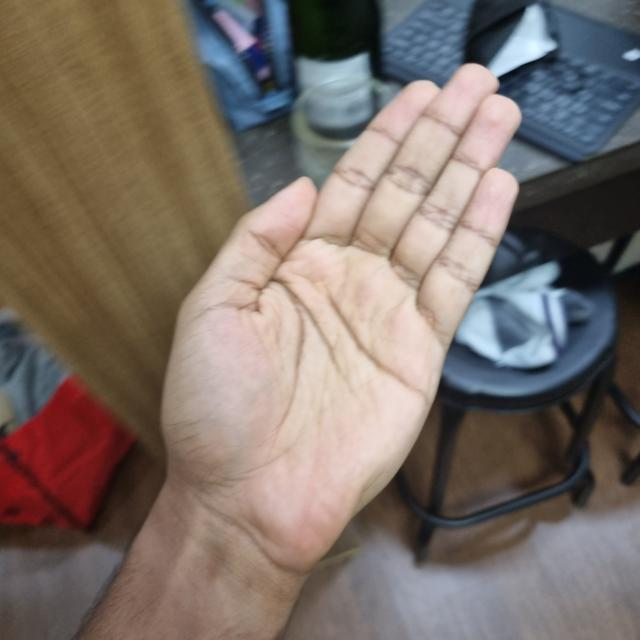Paper: (160, 176, 442, 556)
